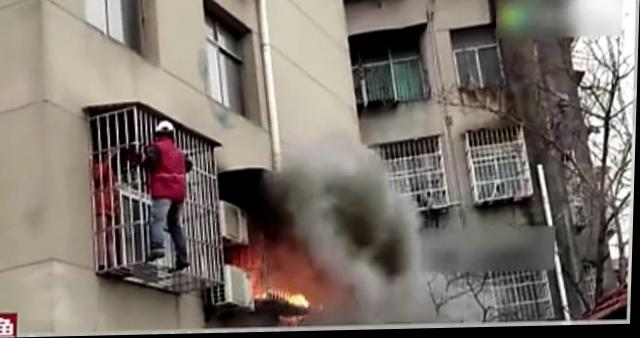fire: (284, 289, 312, 307)
